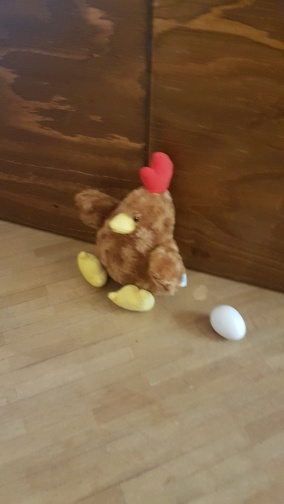chicken: (72, 150, 191, 314)
egg: (208, 302, 248, 342)
